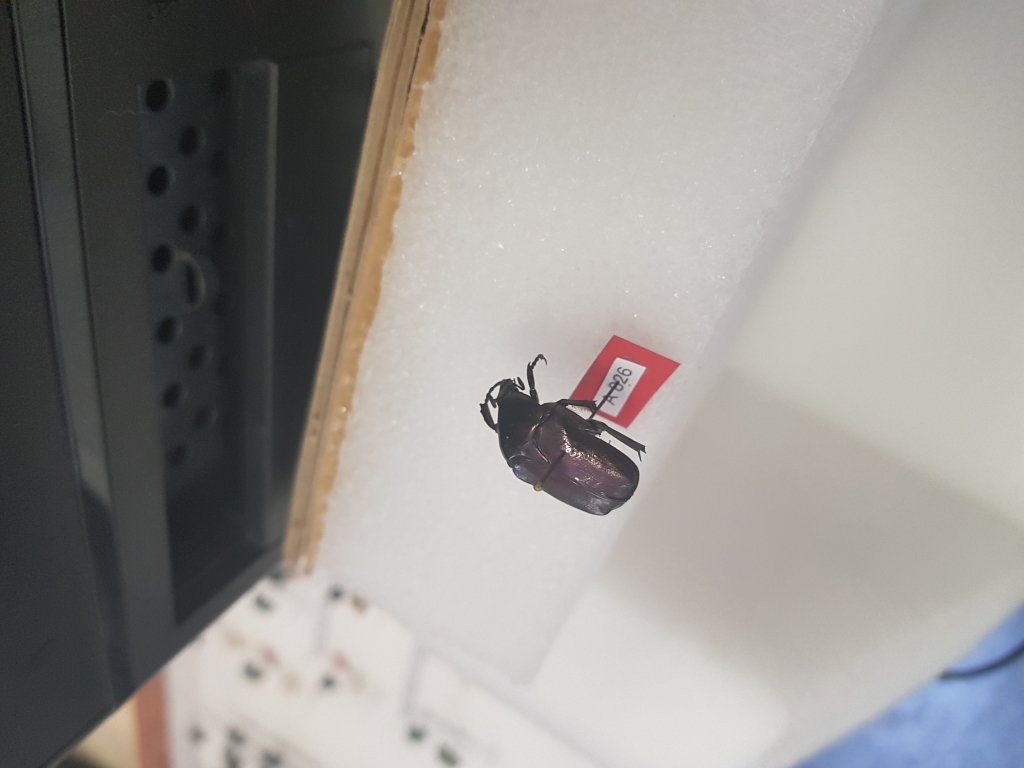Protaetia_besucheti: (483, 348, 647, 518)
